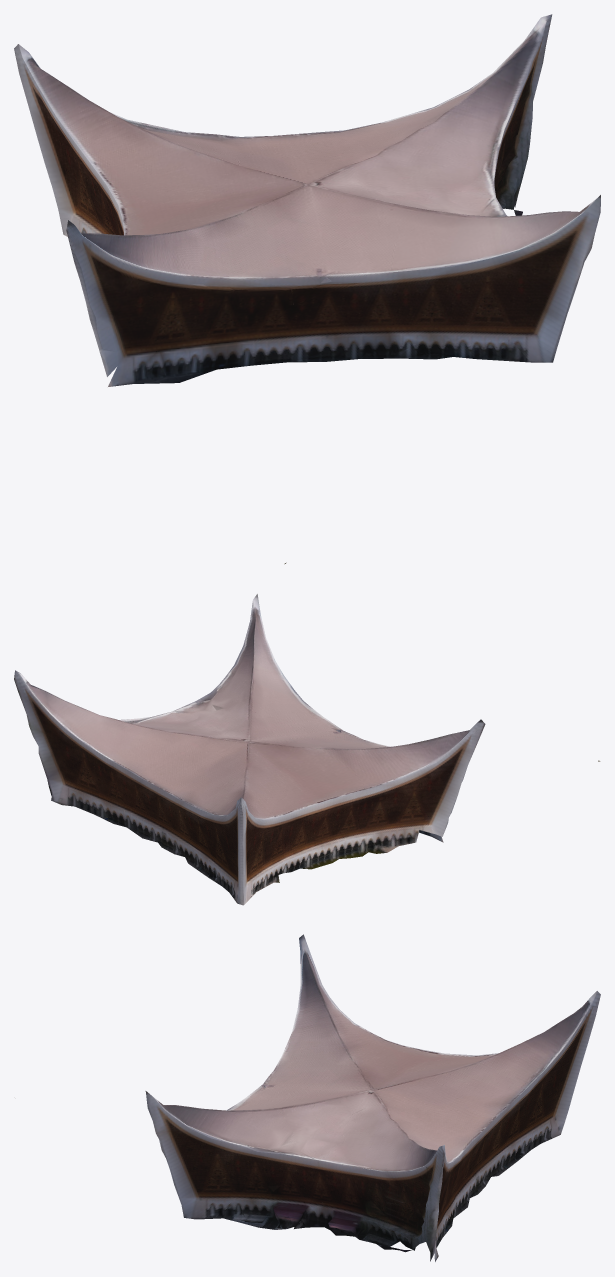
The model's file is mesjid2.glb.
3 renders of one model, top to bottom at view 1: azimuth 30°, elevation 25°; view 2: azimuth 150°, elevation 25°; view 3: azimuth 270°, elevation 25°, orthographic. The views are drawn at different scales.
Visible parts, largest first — view 1: Model_material0_0; view 2: Model_material0_0; view 3: Model_material0_0.
Boxes of the visible parts, left/top/right/bottom form: Model_material0_0: left=14, top=14, right=600, bottom=564; Model_material0_0: left=14, top=594, right=600, bottom=905; Model_material0_0: left=145, top=934, right=600, bottom=1261.
Size of the model in its own units: 140 by 47.9 by 164.
Materials: 1 (1 with a texture image).
